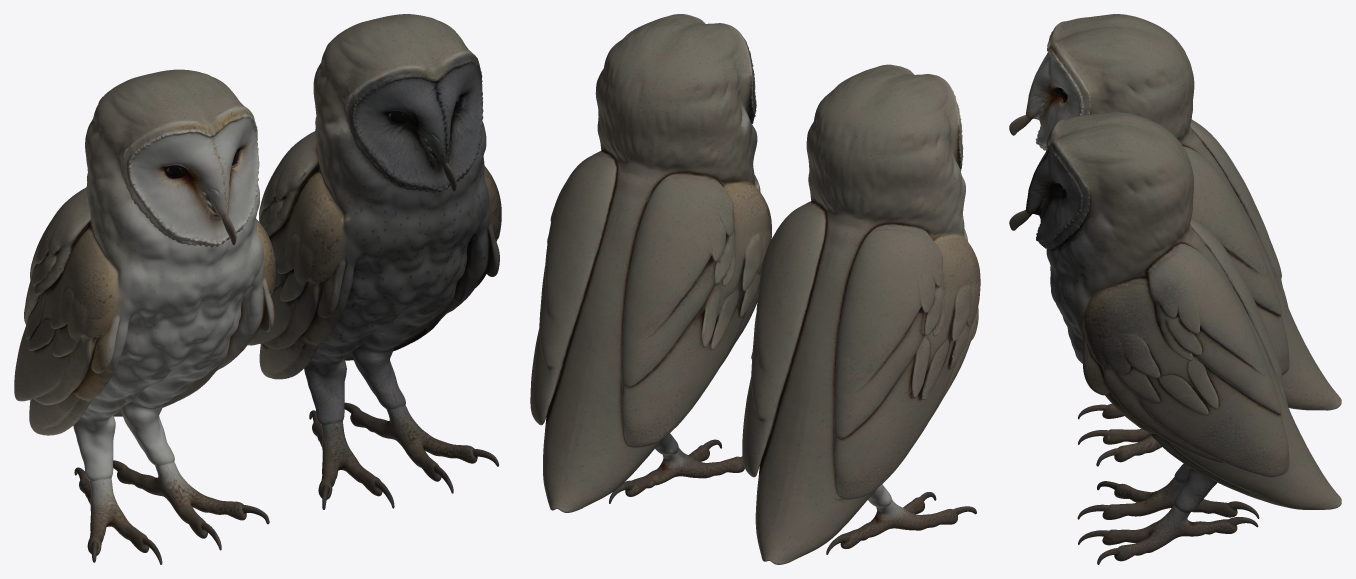
Rendered from 20-el-cerro-de-las-lechuzas-optimized.glb.
The picture shows the model from 3 angles, left to right: view 1: azimuth 30°, elevation 25°; view 2: azimuth 150°, elevation 25°; view 3: azimuth 270°, elevation 25°; orthographic projection. The views are drawn at different scales.
Visible parts, largest first — view 1: tripo_node_00dc4eac-d4a6-41af-aded-e37f6b2ea407; view 2: tripo_node_00dc4eac-d4a6-41af-aded-e37f6b2ea407; view 3: tripo_node_00dc4eac-d4a6-41af-aded-e37f6b2ea407.
Part boxes in pixels (bbox=[...]): tripo_node_00dc4eac-d4a6-41af-aded-e37f6b2ea407: bbox=[14, 14, 501, 564]; tripo_node_00dc4eac-d4a6-41af-aded-e37f6b2ea407: bbox=[530, 14, 980, 564]; tripo_node_00dc4eac-d4a6-41af-aded-e37f6b2ea407: bbox=[1009, 14, 1341, 564].
Bounding box in the file's own units: 0.9624 × 1 × 0.7377.
Materials: 1 (1 with a texture image).
